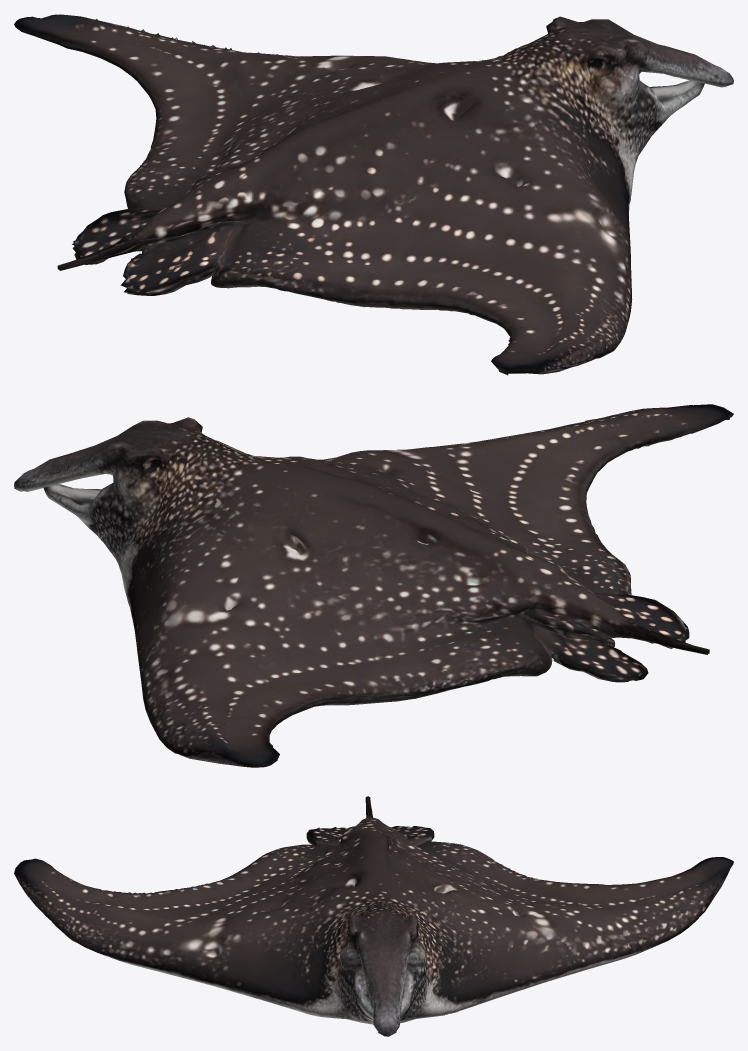
File: eagleray.glb
3 views of the same model, one above another, from view 1: azimuth 30°, elevation 25°; view 2: azimuth 150°, elevation 25°; view 3: azimuth 270°, elevation 25° (orthographic). The views are drawn at different scales.
Parts seen in each view (by area): view 1: tripo_node_4f49febd-90ec-4721-84e7-a2e0af4cf11d; view 2: tripo_node_4f49febd-90ec-4721-84e7-a2e0af4cf11d; view 3: tripo_node_4f49febd-90ec-4721-84e7-a2e0af4cf11d.
Part boxes in pixels (x1=…): tripo_node_4f49febd-90ec-4721-84e7-a2e0af4cf11d: x1=14, y1=14, x2=733, y2=375; tripo_node_4f49febd-90ec-4721-84e7-a2e0af4cf11d: x1=14, y1=404, x2=733, y2=767; tripo_node_4f49febd-90ec-4721-84e7-a2e0af4cf11d: x1=14, y1=796, x2=733, y2=1036.
Bounding box in the file's own units: 1 × 0.2264 × 1.24.
1 material, 1 textured.
